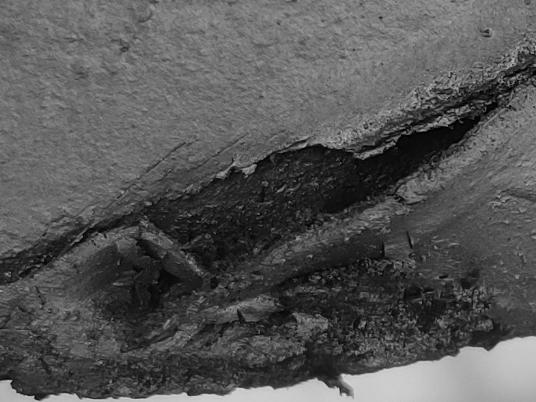crack: (1, 0, 536, 402)
